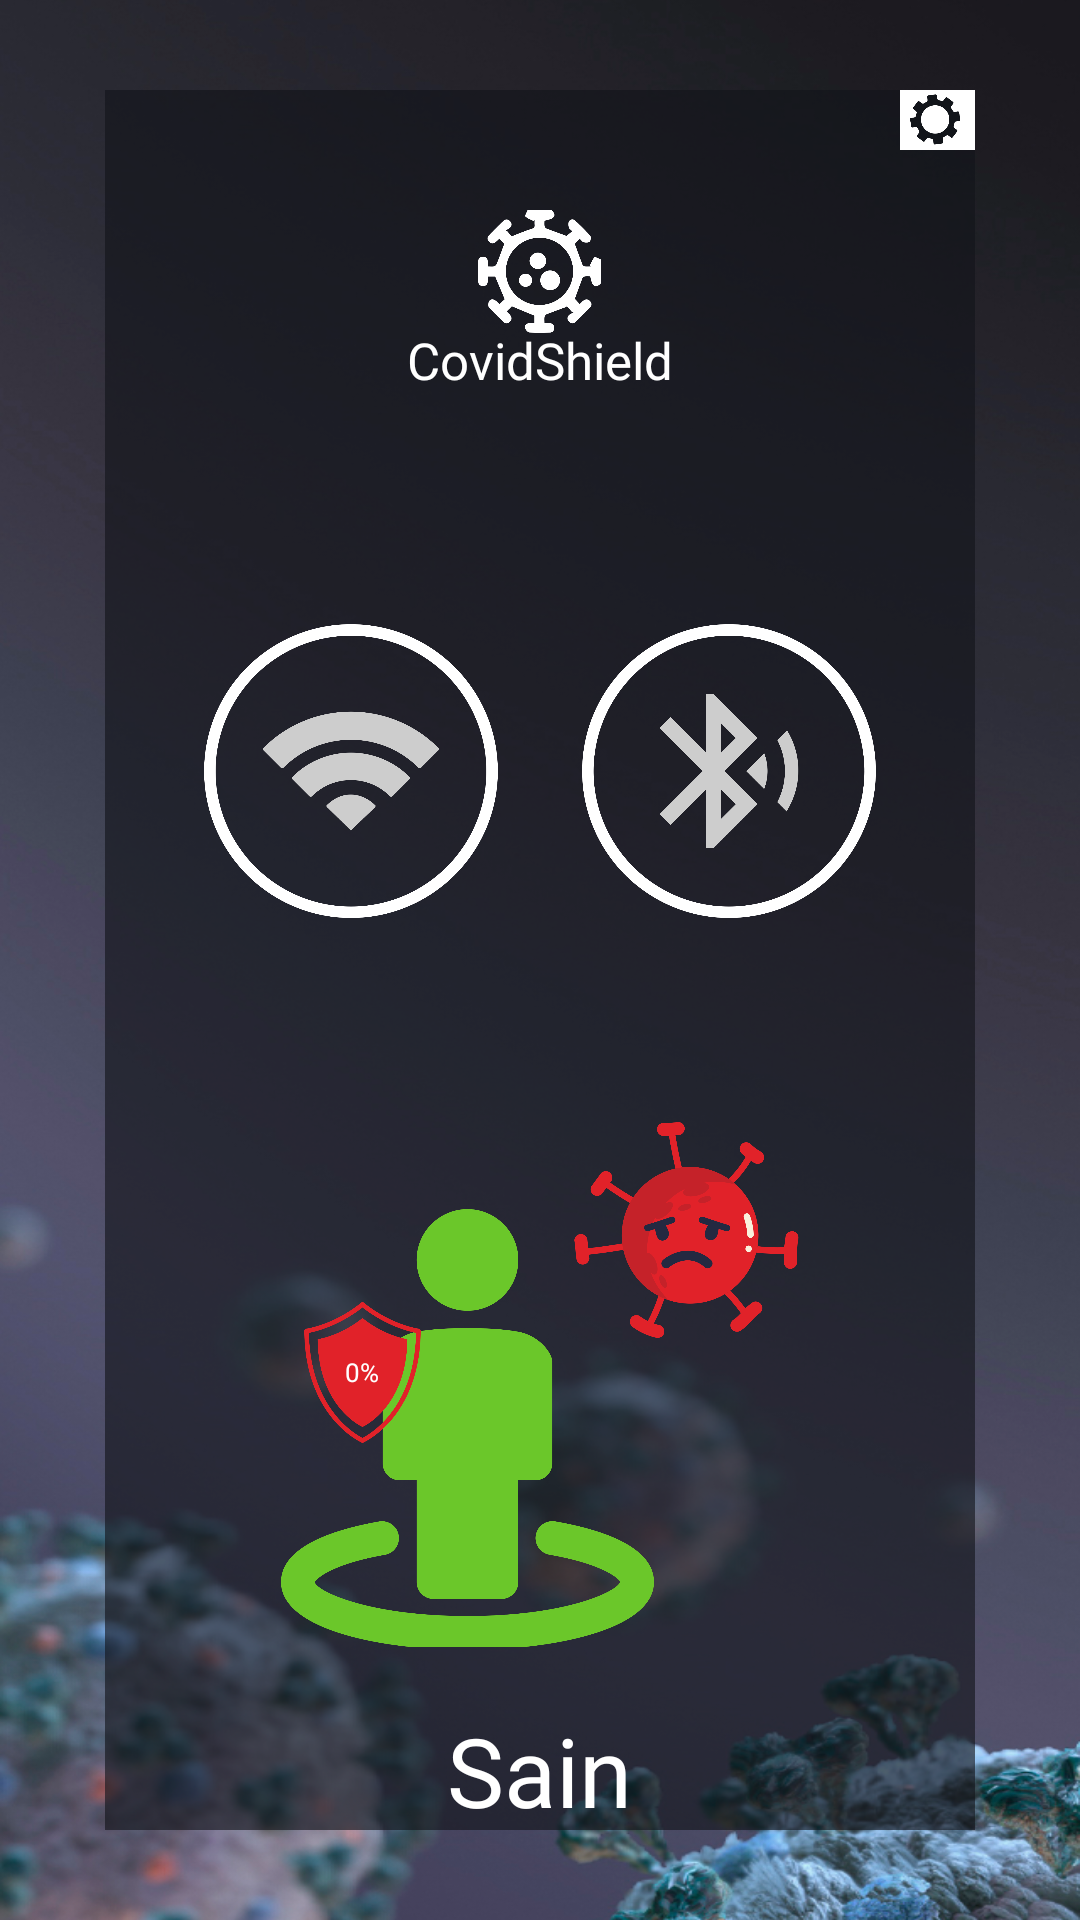

Icon click points for this 1080 x 1920 phone screenshot, format (x,y):
coronavirus: (539,271)
coronavirus sad: (686,1230)
settings: (937,120)
wifi: (351,771)
